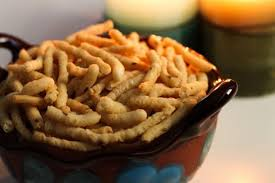kurkure: (10, 21, 206, 134)
